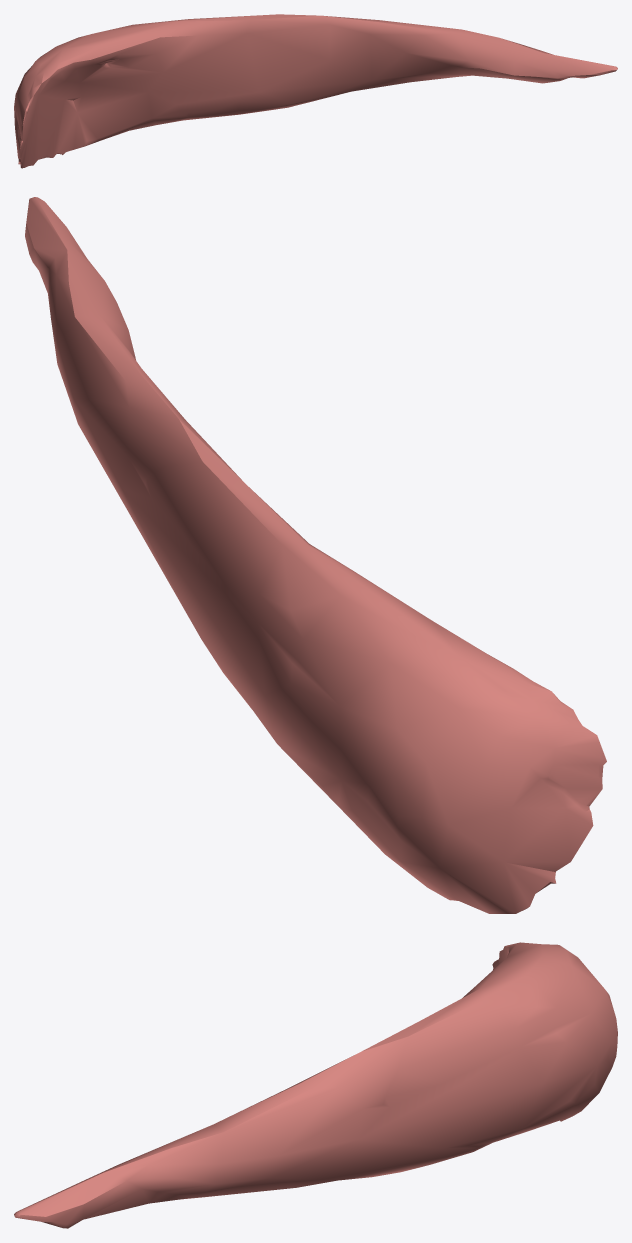
File: fma22337_fj1416m.glb
3 views of the same model, one above another, from view 1: azimuth 30°, elevation 25°; view 2: azimuth 150°, elevation 25°; view 3: azimuth 270°, elevation 25° (orthographic). The views are drawn at different scales.
Visible parts, largest first — view 1: FMA22337_FJ1416M; view 2: FMA22337_FJ1416M; view 3: FMA22337_FJ1416M.
Part boxes in pixels (bbox=[...]): FMA22337_FJ1416M: bbox=[14, 14, 617, 168]; FMA22337_FJ1416M: bbox=[25, 197, 606, 913]; FMA22337_FJ1416M: bbox=[14, 942, 617, 1228].
Bounding box in the file's own units: 0.0703 × 0.022 × 0.0539.
